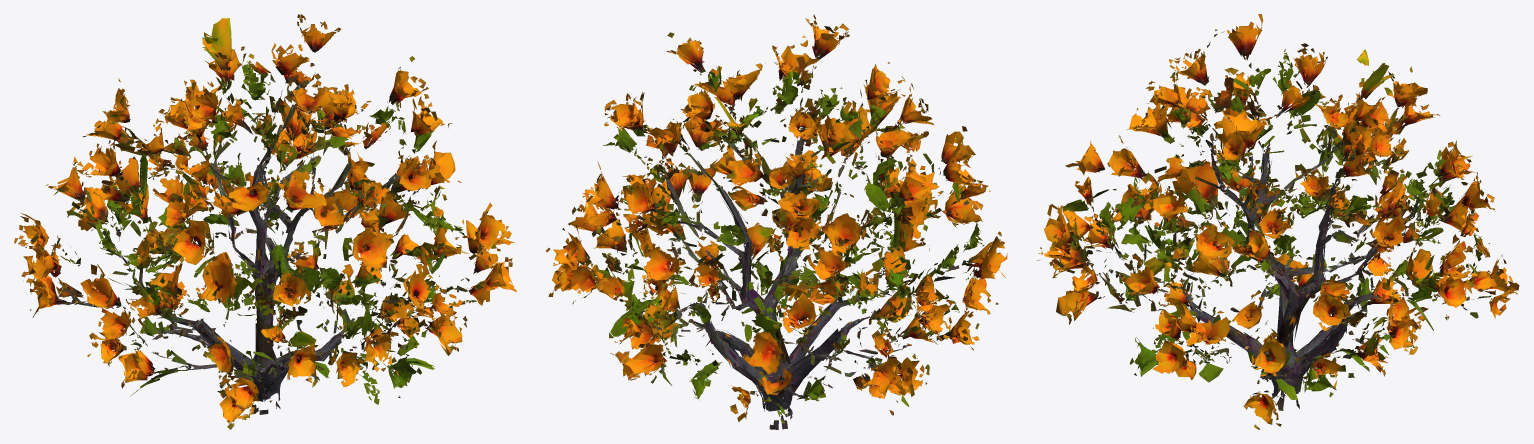
File: veg_shrub_azalea_01.glb
3 renders of one model, left to right at view 1: azimuth 30°, elevation 25°; view 2: azimuth 150°, elevation 25°; view 3: azimuth 270°, elevation 25°, orthographic. The views are drawn at different scales.
Visible parts, largest first — view 1: veg_shrub_azalea_01; view 2: veg_shrub_azalea_01; view 3: veg_shrub_azalea_01.
Boxes of the visible parts, left/top/right/bottom form: veg_shrub_azalea_01: left=14, top=14, right=516, bottom=429; veg_shrub_azalea_01: left=546, top=14, right=1007, bottom=429; veg_shrub_azalea_01: left=1037, top=14, right=1519, bottom=429.
Bounding box in the file's own units: 1.69 × 1.5 × 1.8.
1 material, 1 textured.
